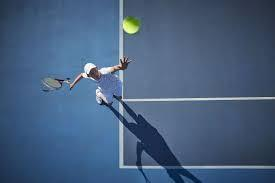tennis ball: (124, 17, 140, 34)
tennis racket: (41, 79, 70, 89)
